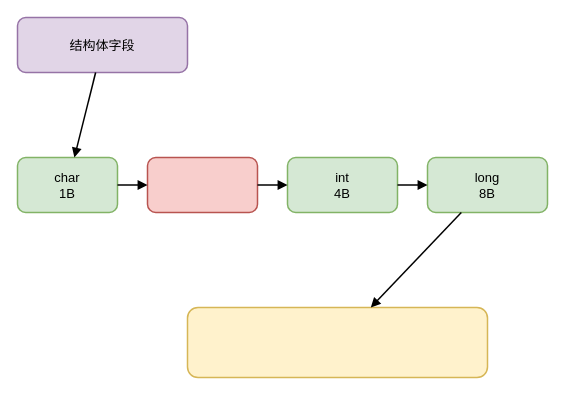
This 566x396 diagram has some shape labels left out. The centre of each missing label's shape, as x and y in pixels:
padding 3B: (x=202, y=184)
按对齐粒度放置 减少跨边界访问: (x=337, y=342)
